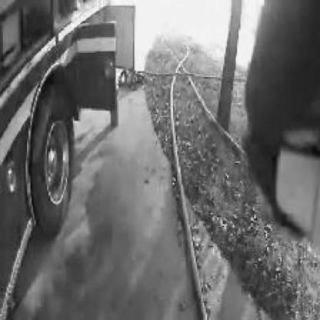other: (51, 22, 127, 114), (259, 144, 317, 223)
